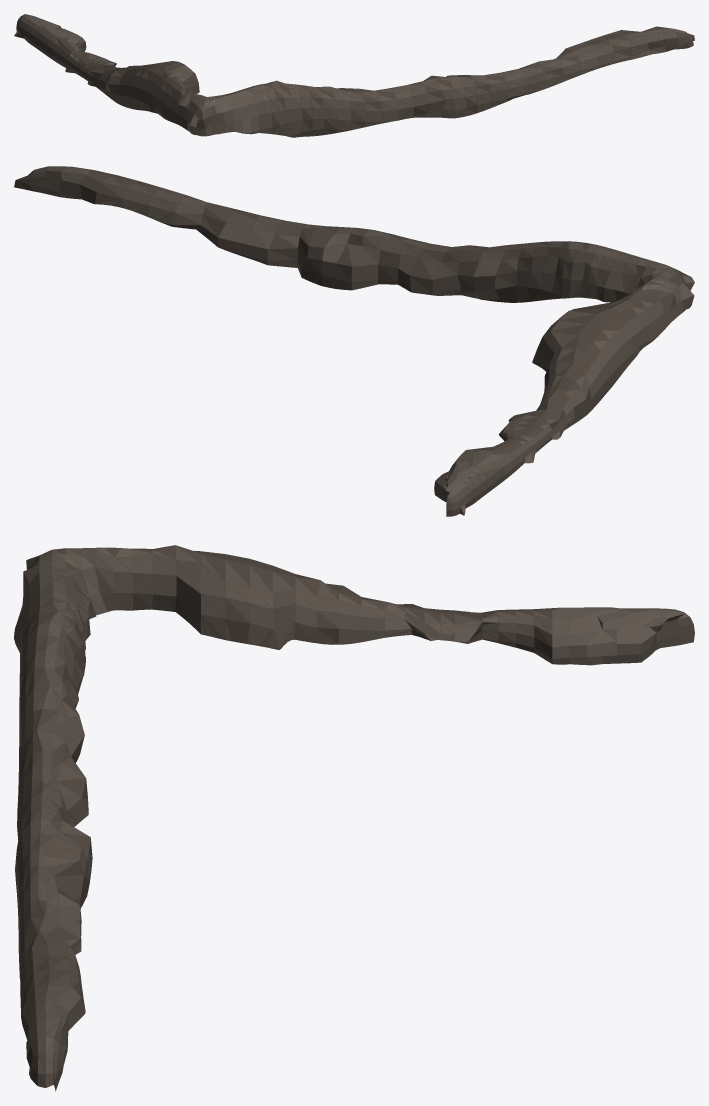
Rendered from Left Boundary Rock.fbx.
3 views of the same model, one above another, from view 1: azimuth 30°, elevation 25°; view 2: azimuth 150°, elevation 25°; view 3: azimuth 270°, elevation 25° (orthographic). The views are drawn at different scales.
Parts seen in each view (by area): view 1: Cube.001; view 2: Cube.001; view 3: Cube.001.
Part boxes in pixels (bbox=[...]): Cube.001: bbox=[14, 14, 694, 137]; Cube.001: bbox=[14, 166, 694, 516]; Cube.001: bbox=[14, 545, 694, 1091].
Bounding box in the file's own units: 4646 × 623 × 2963.
Materials: 1 (1 with a texture image).
